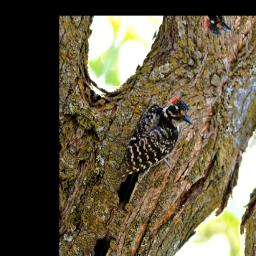Woodpecker: (108, 80, 198, 230)
